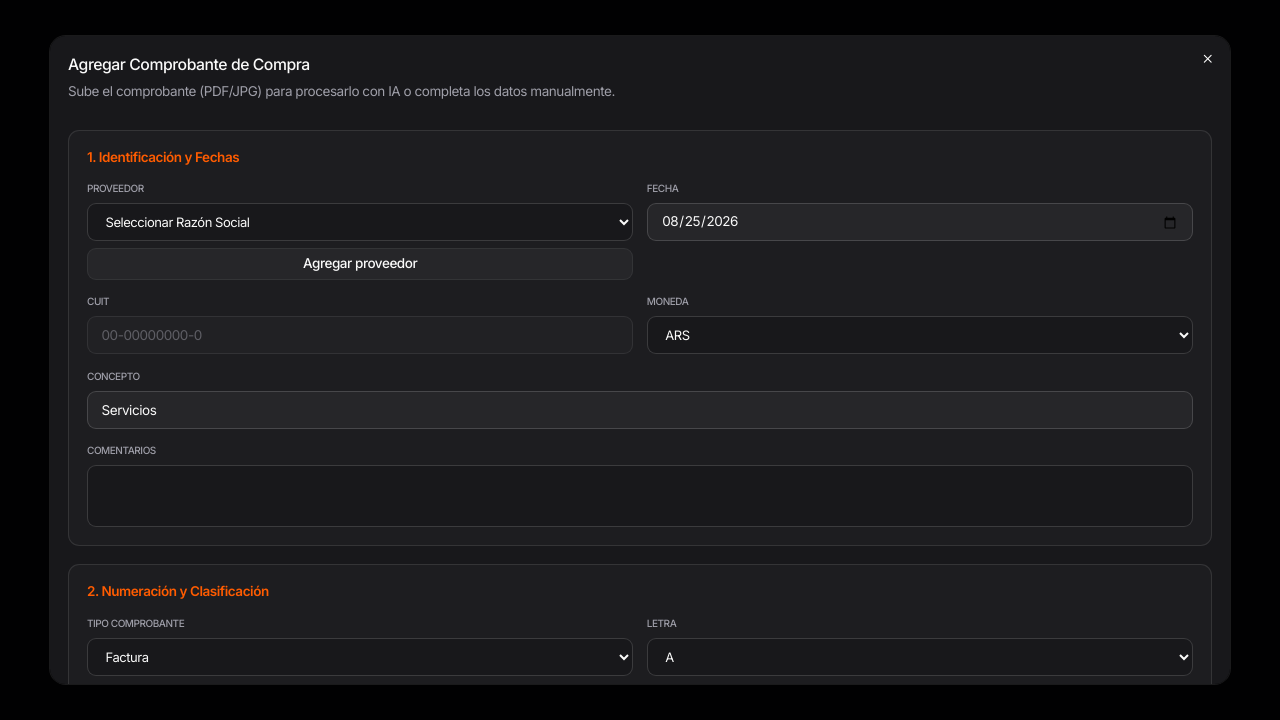
Test: Voucher inline third-party creation › prefills the inline supplier modal from parsed values and auto-selects the created record
The image size is (1280, 720).
Click the button "Agregar proveedor": (360, 264) [87, 248, 633, 280]
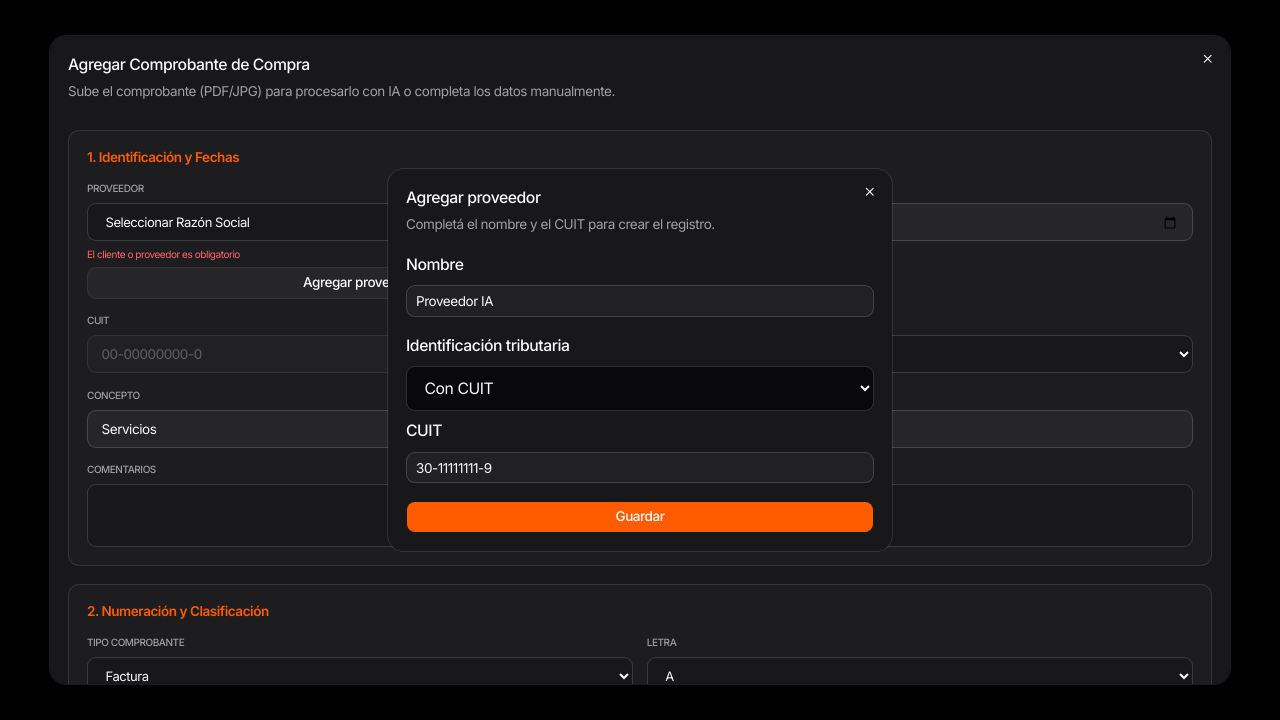
Now the field labelled "Nombre" holds "Proveedor IA", box [406, 286, 874, 317]
Now the field labelled "CUIT" holds "30-11111111-9", box [406, 452, 874, 484]
Click the button "Guardar": (640, 517) [406, 502, 874, 533]
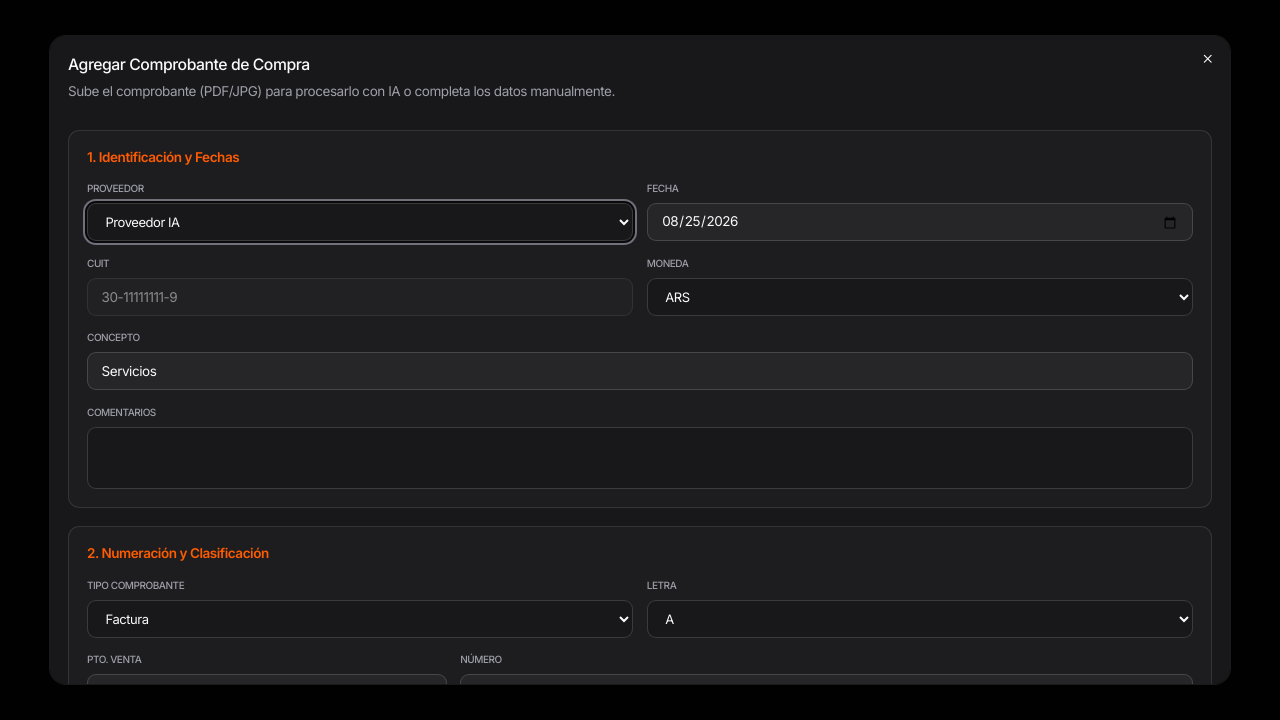
Now the field showing "30-11111111-9" below "CUIT" is shown, box [87, 278, 633, 316]
Now the button "Agregar proveedor" is gone
